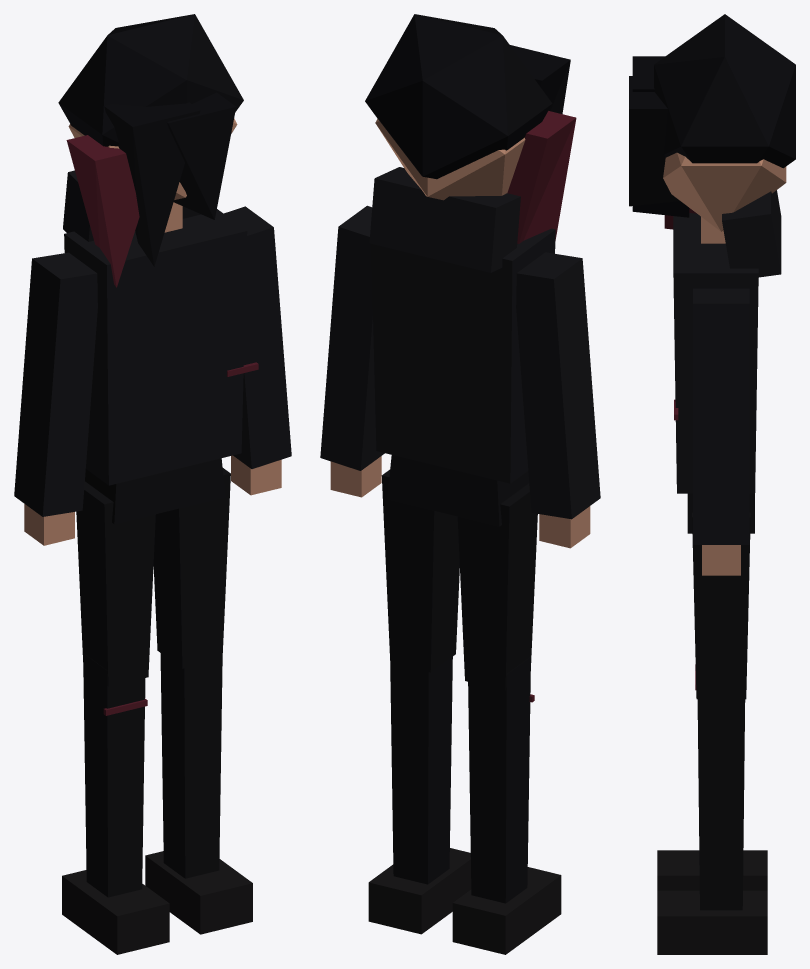
The model's file is phase1-burgundy-blockout.obj.
3 renders of one model, left to right at view 1: azimuth 30°, elevation 25°; view 2: azimuth 150°, elevation 25°; view 3: azimuth 270°, elevation 25°, orthographic.
Visible parts, largest first — view 1: hoodie, left_arm, hair_cap, left_lower_leg, right_lower_leg, left_upper_leg, right_upper_leg, right_arm, fringe_left, side_lock, left_shoe, right_shoe (+5 smaller); view 2: hoodie, hair_cap, left_arm, left_lower_leg, right_lower_leg, left_upper_leg, right_upper_leg, right_arm, hood, left_shoe, side_lock, hips (+5 smaller); view 3: hair_cap, right_arm, right_lower_leg, hoodie, right_upper_leg, right_shoe, head, fringe_center, hood, left_shoe, fringe_left, right_hand (+2 smaller).
Part boxes in pixels (x1=…): hoodie: x1=64, y1=209, x2=247, y2=485; left_arm: x1=14, y1=252, x2=97, y2=516; hair_cap: x1=58, y1=14, x2=243, y2=146; left_lower_leg: x1=83, y1=653, x2=145, y2=897; right_lower_leg: x1=160, y1=653, x2=222, y2=878; left_upper_leg: x1=76, y1=481, x2=155, y2=686; right_upper_leg: x1=153, y1=468, x2=230, y2=668; right_arm: x1=224, y1=206, x2=291, y2=468; fringe_left: x1=104, y1=102, x2=200, y2=266; side_lock: x1=66, y1=135, x2=139, y2=287; left_shoe: x1=62, y1=870, x2=169, y2=954; right_shoe: x1=145, y1=851, x2=252, y2=934; hoodie: x1=371, y1=228, x2=555, y2=483; hair_cap: x1=365, y1=14, x2=552, y2=179; left_arm: x1=516, y1=252, x2=600, y2=519; left_lower_leg: x1=468, y1=657, x2=530, y2=903; right_lower_leg: x1=390, y1=656, x2=452, y2=884; left_upper_leg: x1=457, y1=483, x2=537, y2=690; right_upper_leg: x1=381, y1=469, x2=459, y2=672; right_arm: x1=320, y1=205, x2=384, y2=470; hood: x1=369, y1=167, x2=520, y2=272; left_shoe: x1=452, y1=867, x2=561, y2=954; side_lock: x1=507, y1=111, x2=576, y2=243; hips: x1=387, y1=455, x2=529, y2=526; hair_cap: x1=654, y1=14, x2=795, y2=168; right_arm: x1=693, y1=288, x2=749, y2=544; right_lower_leg: x1=697, y1=683, x2=745, y2=910; hoodie: x1=673, y1=213, x2=758, y2=493; right_upper_leg: x1=692, y1=512, x2=750, y2=699; right_shoe: x1=657, y1=890, x2=767, y2=954; head: x1=663, y1=152, x2=786, y2=231; fringe_center: x1=629, y1=76, x2=679, y2=206; hood: x1=722, y1=190, x2=781, y2=277; left_shoe: x1=657, y1=850, x2=767, y2=890; fringe_left: x1=632, y1=56, x2=689, y2=217; right_hand: x1=702, y1=545, x2=740, y2=575.
Bounding box in the file's own units: 1.62 × 5.51 × 0.9398.
